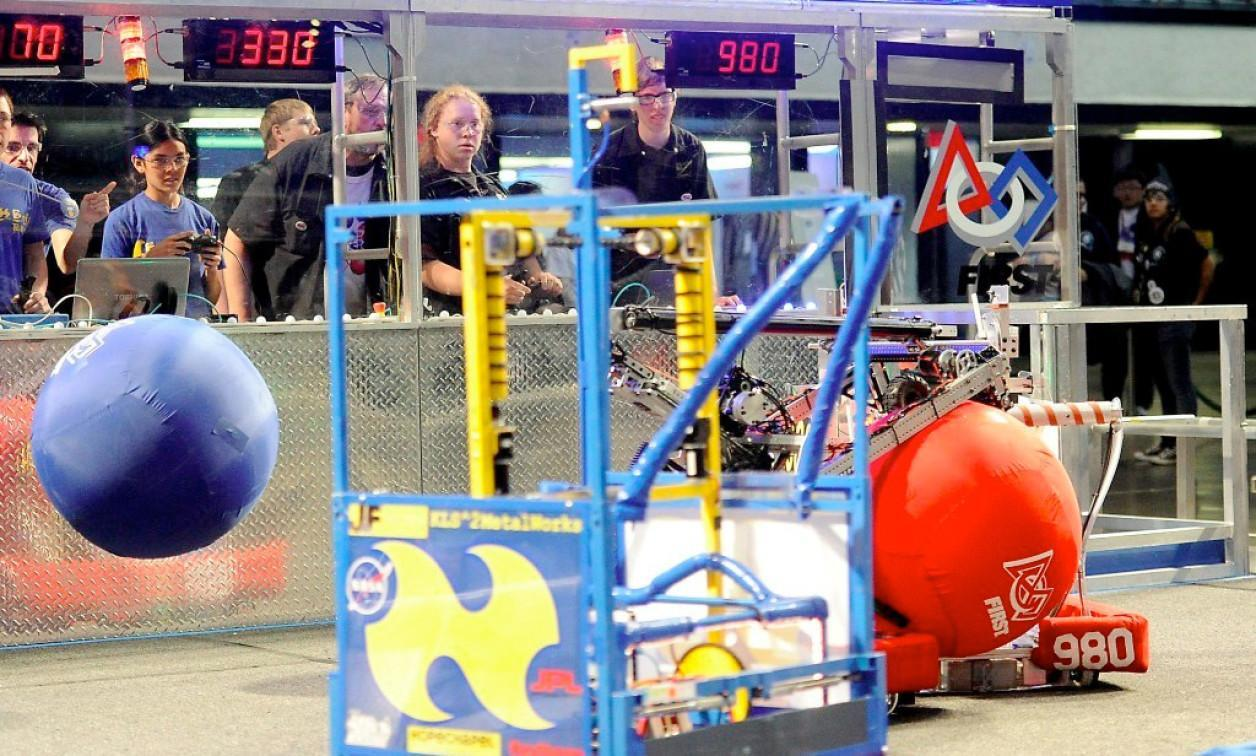robot: (293, 36, 892, 756), (599, 281, 1168, 719)
